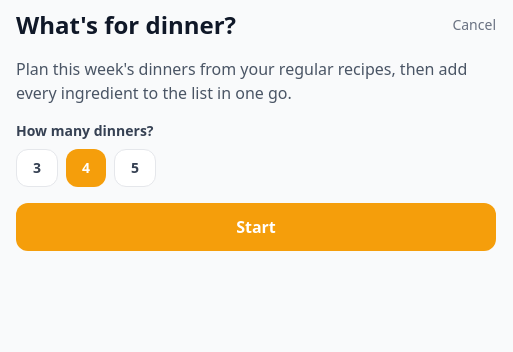
Scenario: suggestions › swaps a suggestion for the next unused pool recipe
Click the button "Start" at (256, 227), box [16, 203, 496, 251]
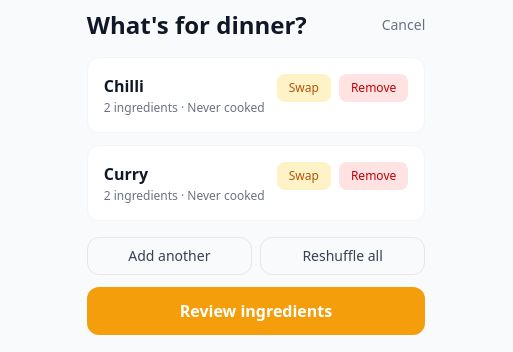
Expected: the heading "Chilli" is shown, [104, 75, 144, 97]
Click the button "Swap" in the row of "Chilli" at (304, 88), box [277, 74, 331, 102]
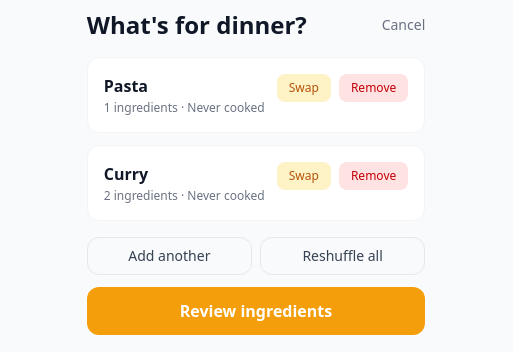
Expected: the heading "Chilli" is gone
Expected: the heading "Pasta" is shown, [104, 75, 148, 97]
